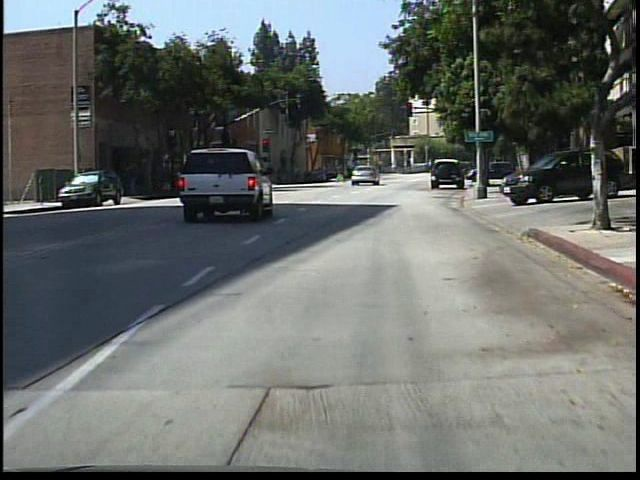person: (487, 157, 502, 182), (335, 165, 348, 185)
